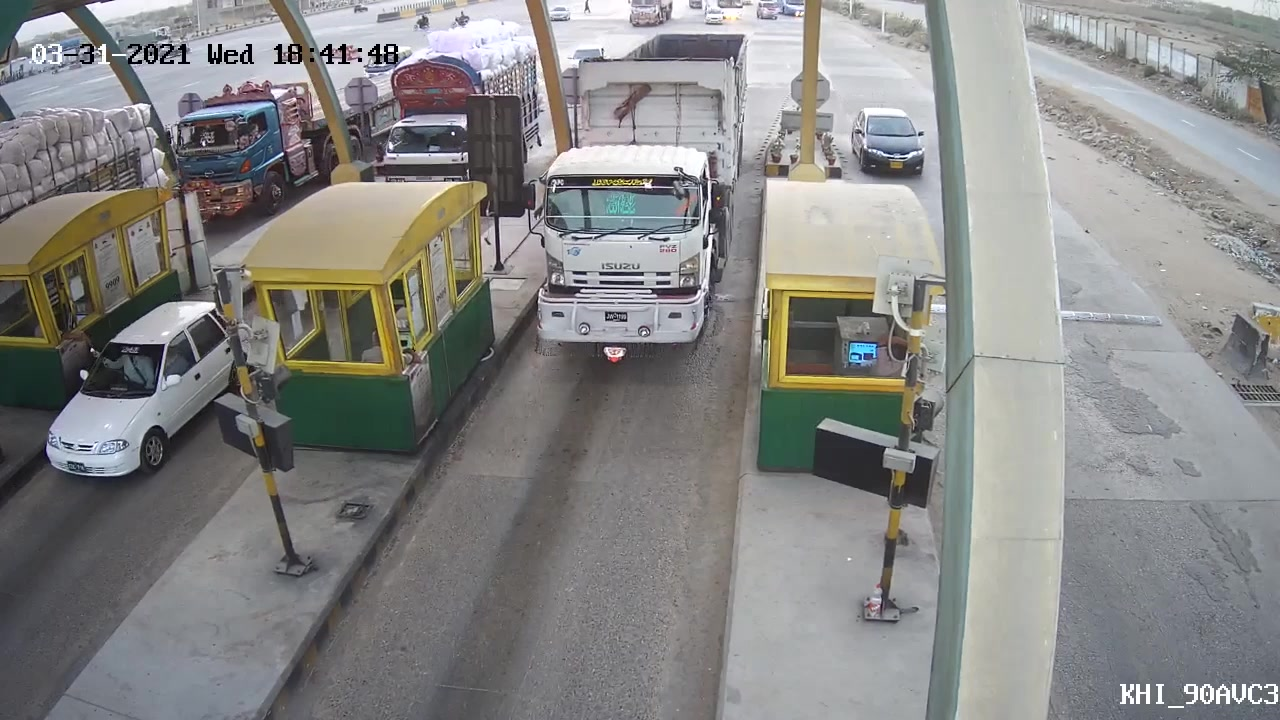F5: (507, 65, 736, 367)
